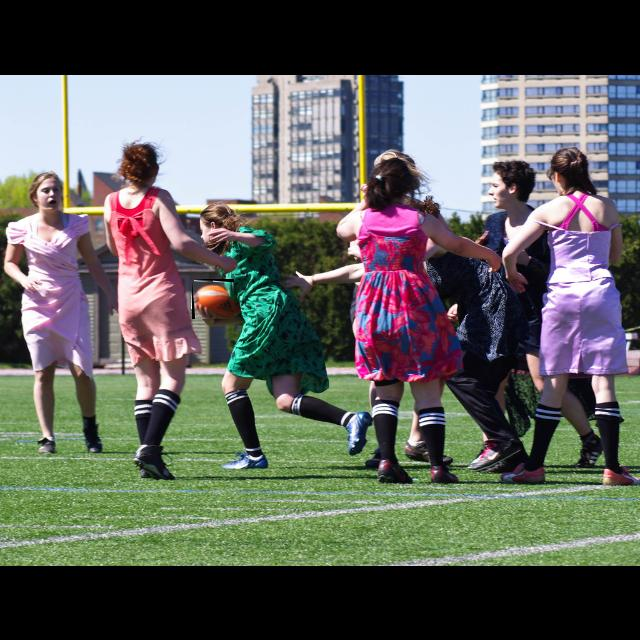Football: (192, 279, 234, 319)
